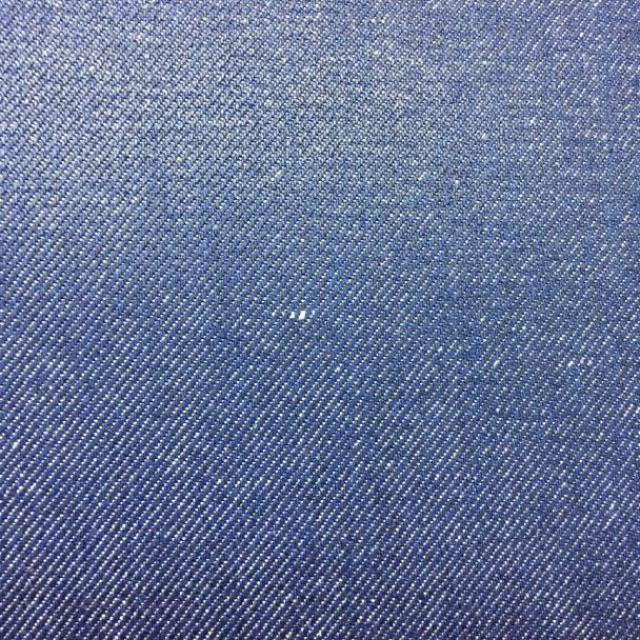Knot: (271, 308, 320, 323)
